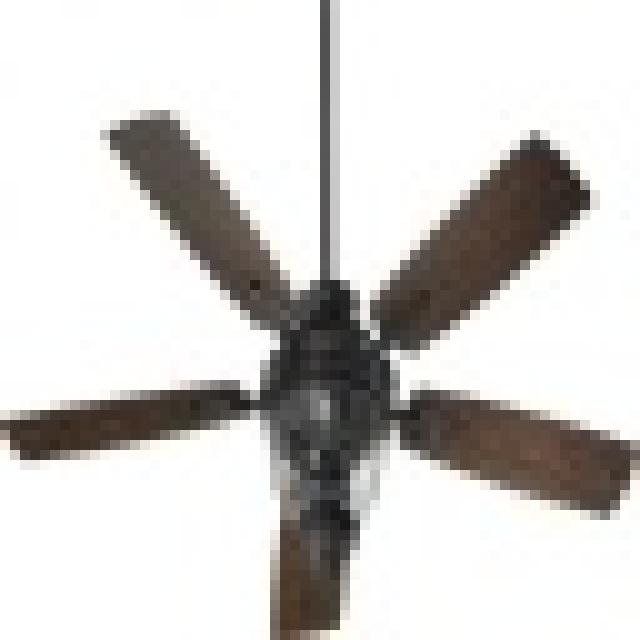Bulb: (7, 75, 640, 621)
